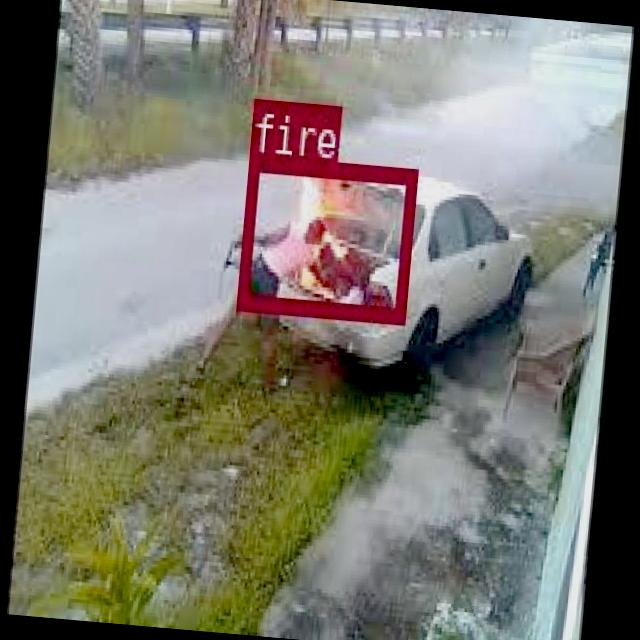fire: (236, 151, 417, 320)
